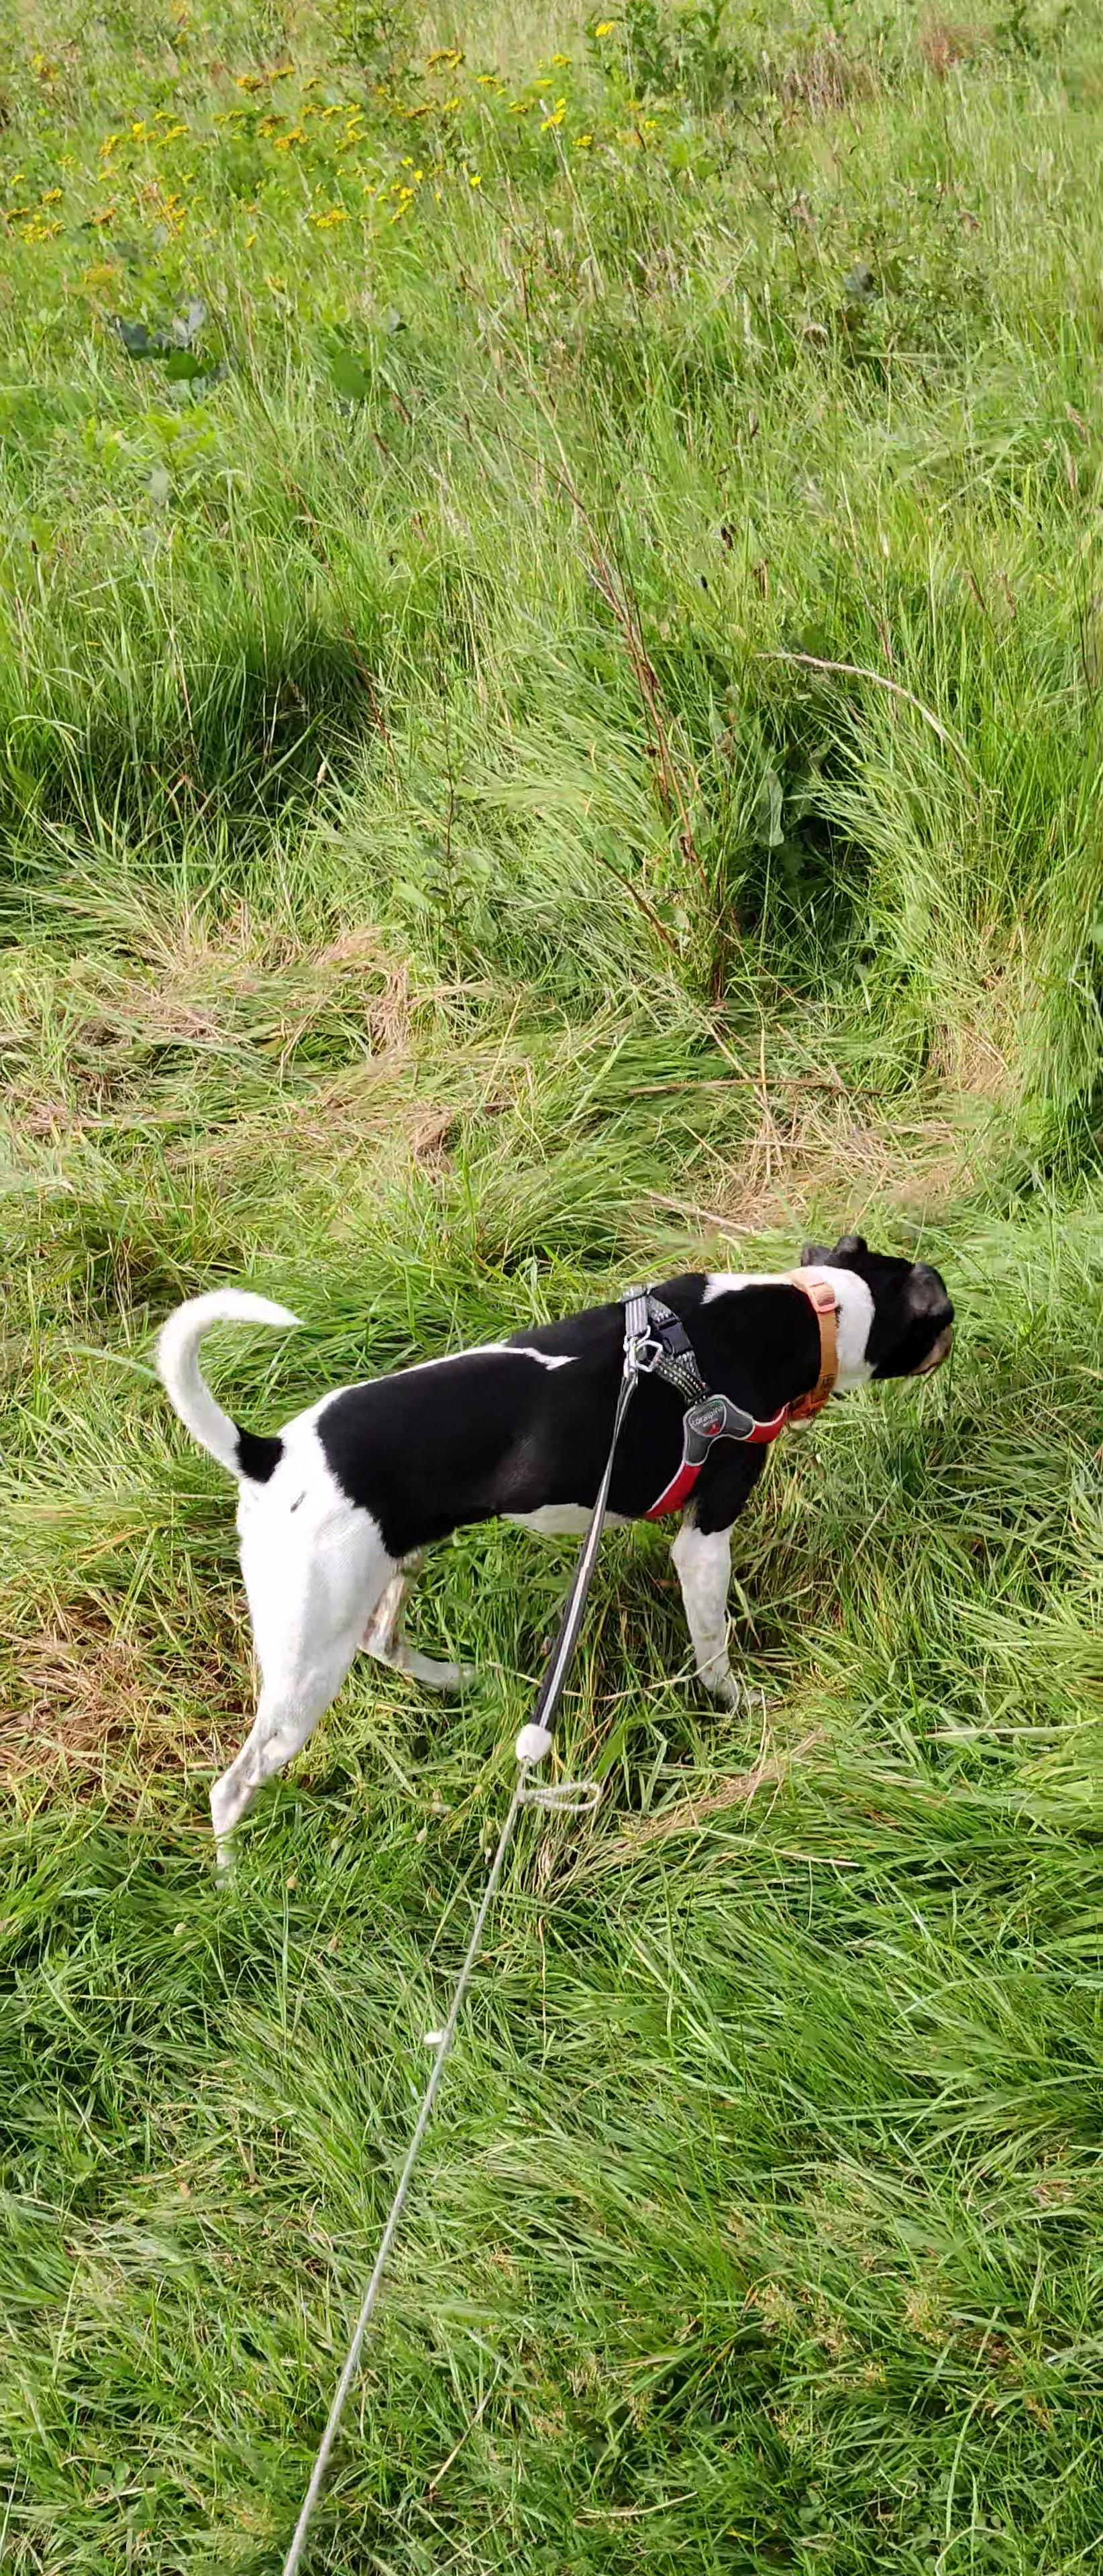Dog: (143, 1227, 965, 1901)
